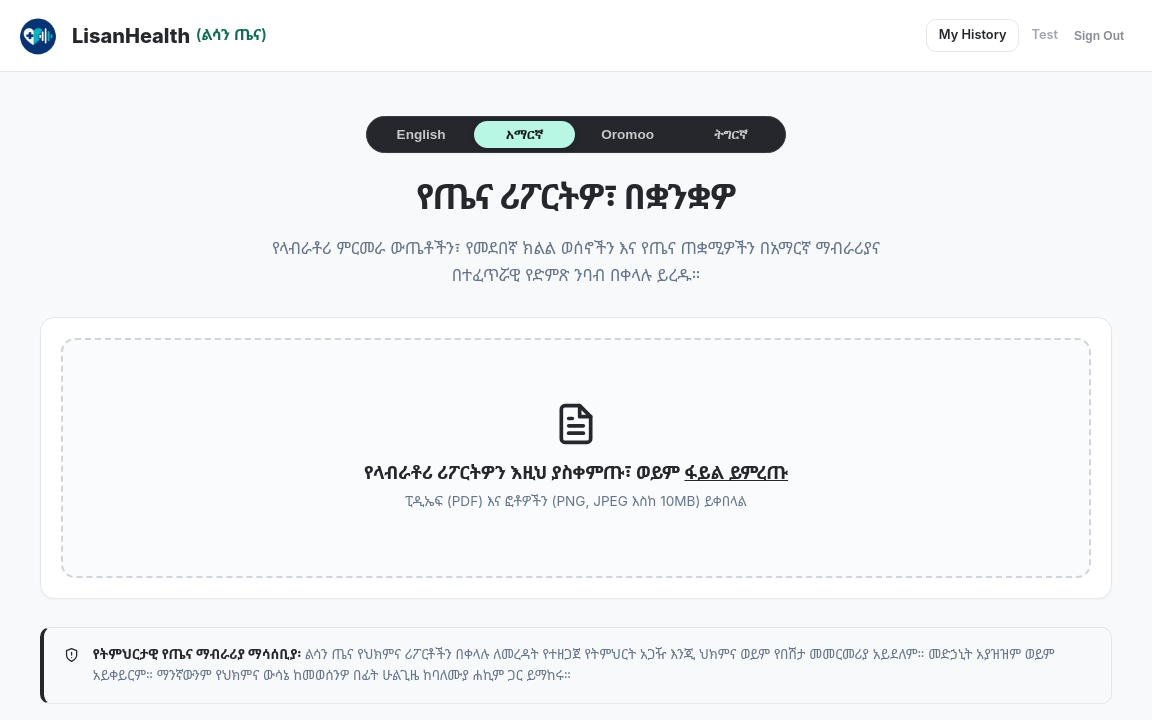
Test case: App Component Integration Test › switches between Amharic, English, and Afaan Oromoo seamlessly
Switch to English
Click the radio button labelled "English" at (421, 135), box [371,121,471,148]
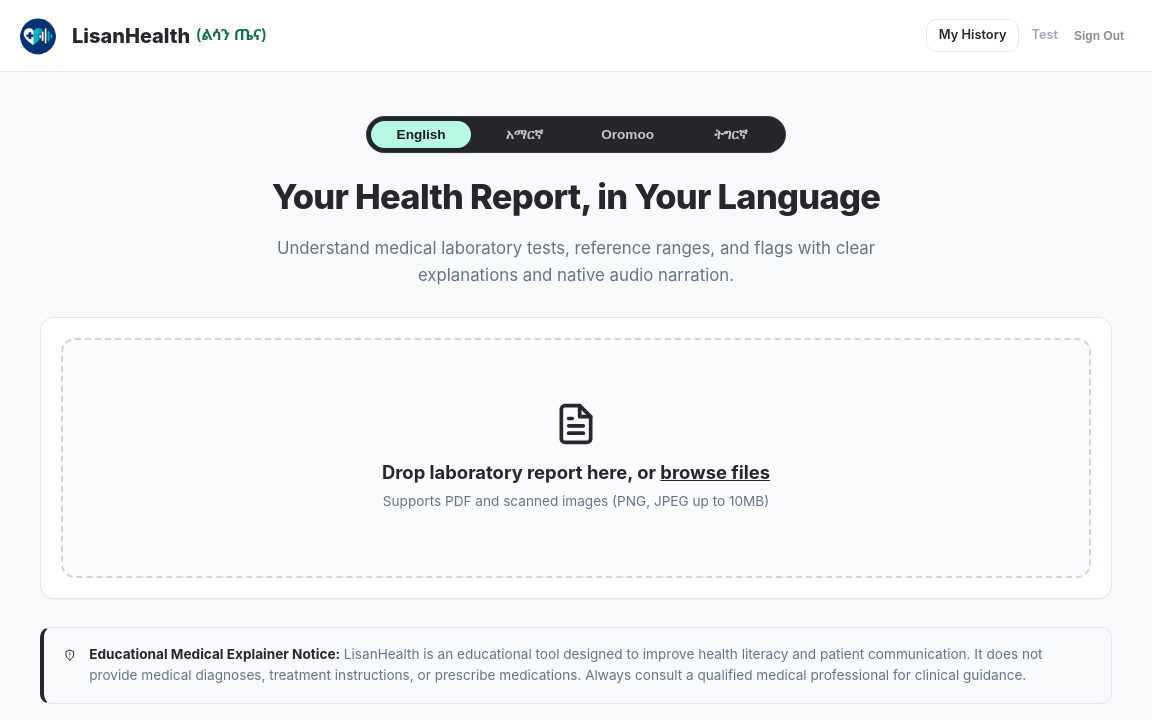
Expected: the heading "Your Health Report, in Your Language" is shown, [272,176,880,217]
Switch to Afaan Oromoo
Click the radio button labelled "Oromoo" at (628, 135), box [578,121,678,148]
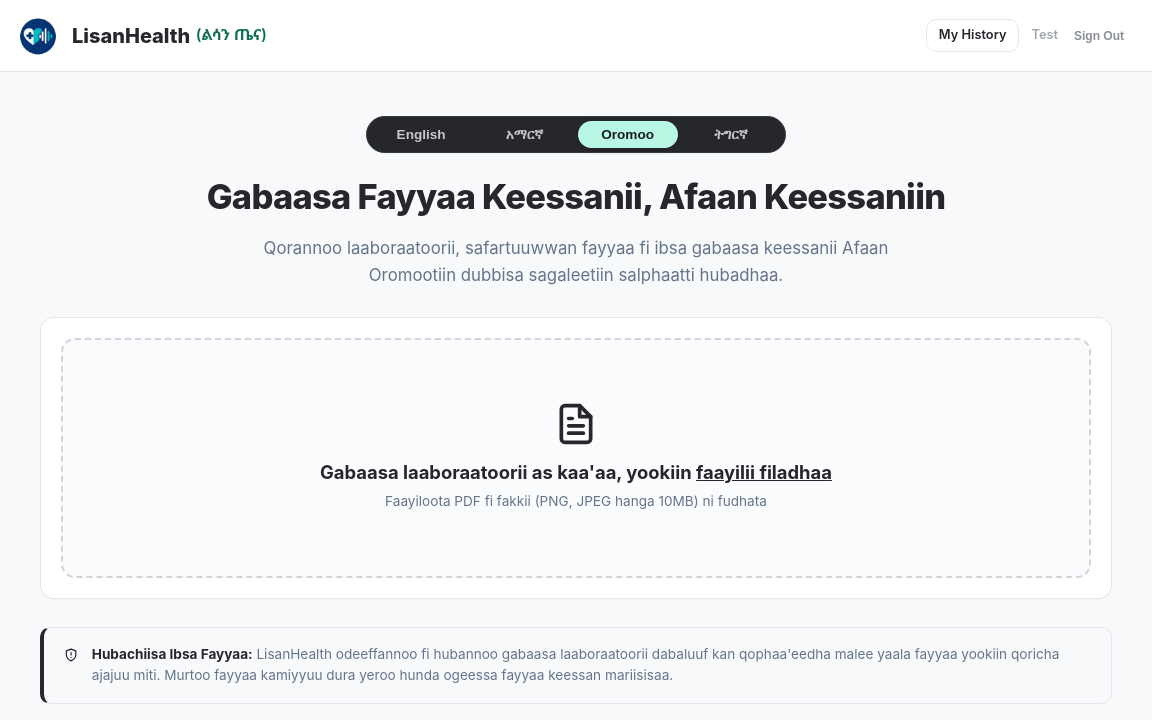
Expected: the heading "Gabaasa Fayyaa Keessanii, Afaan Keessaniin" is shown, [207,176,945,217]
